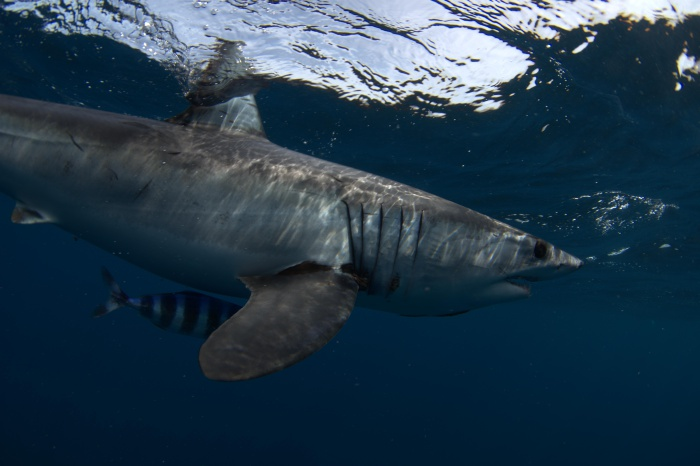Mako: (1, 27, 603, 394)
